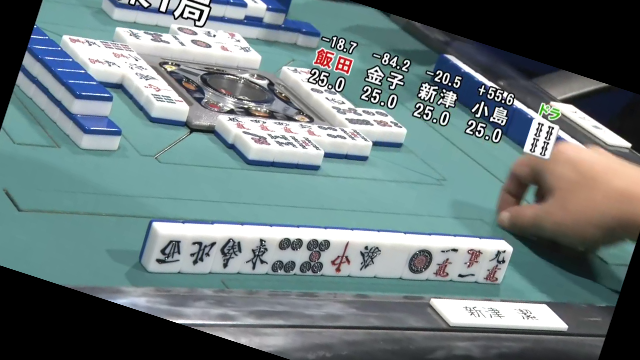Tehai: (147, 219, 511, 288)
